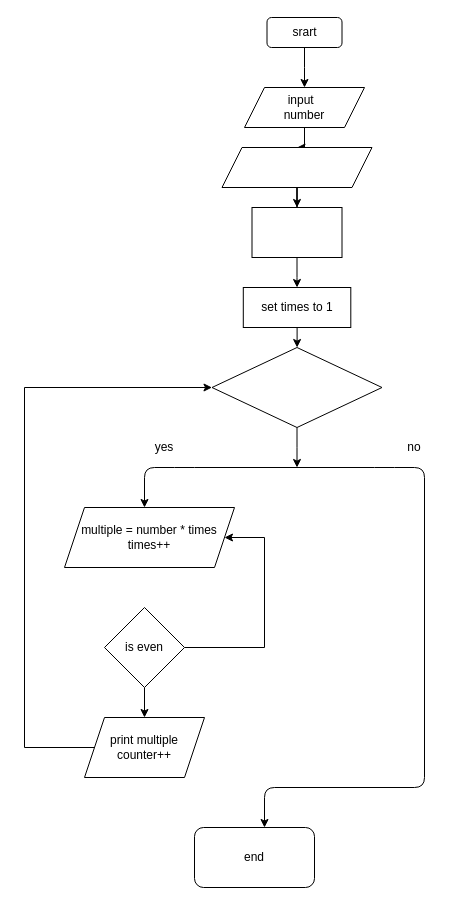
This 452x905 diagram has some shape labels left out. Each missing label, with the centre of its shape:
counter < number_of_multiples: the point at 296,387
input number_of_multiples: the point at 296,167
set counter to 0: the point at 296,232
